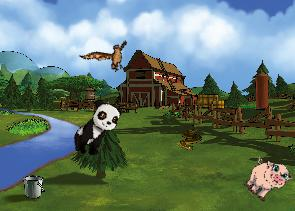eagle: (79, 28, 138, 84)
panda: (68, 95, 125, 162)
pig: (239, 151, 294, 207)
